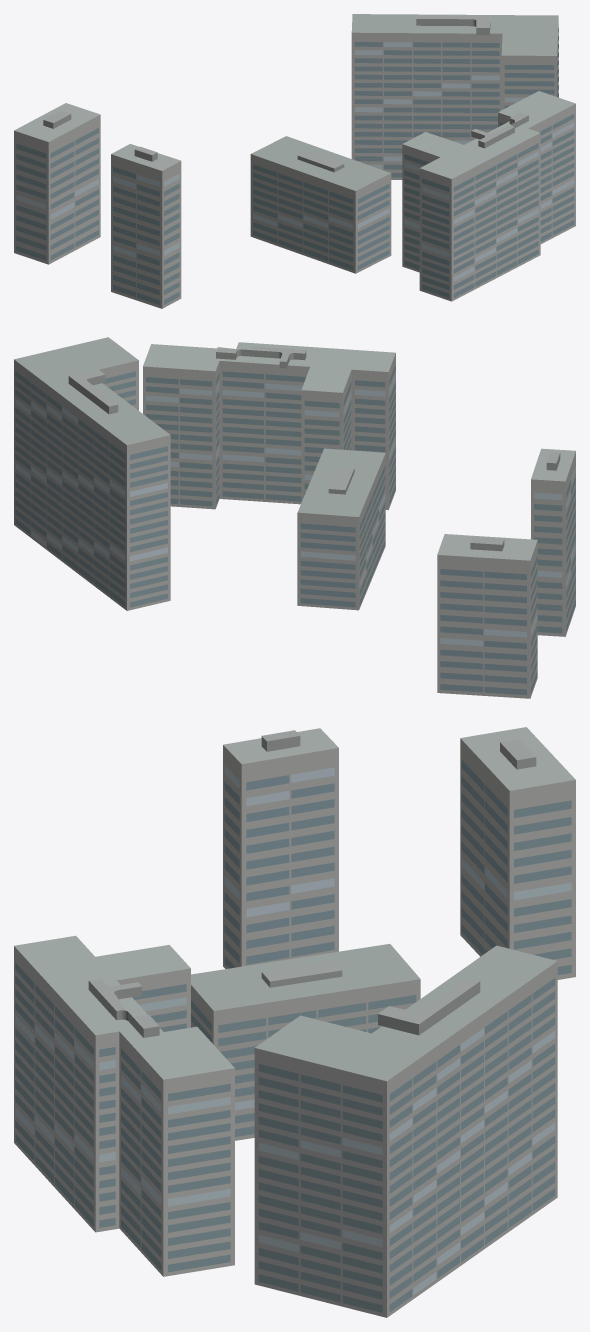
Rendered from apt-a15010602.glb.
3 renders of one model, top to bottom at view 1: azimuth 30°, elevation 25°; view 2: azimuth 150°, elevation 25°; view 3: azimuth 270°, elevation 25°, orthographic. The views are drawn at different scales.
Visible parts, largest first — view 1: apt-a15010602; view 2: apt-a15010602; view 3: apt-a15010602.
Part boxes in pixels (x1,y1,x2,y2): apt-a15010602: [14, 14, 575, 308]; apt-a15010602: [14, 337, 575, 698]; apt-a15010602: [14, 727, 575, 1317].
Size of the model in its own units: 164 by 48 by 98.68.
